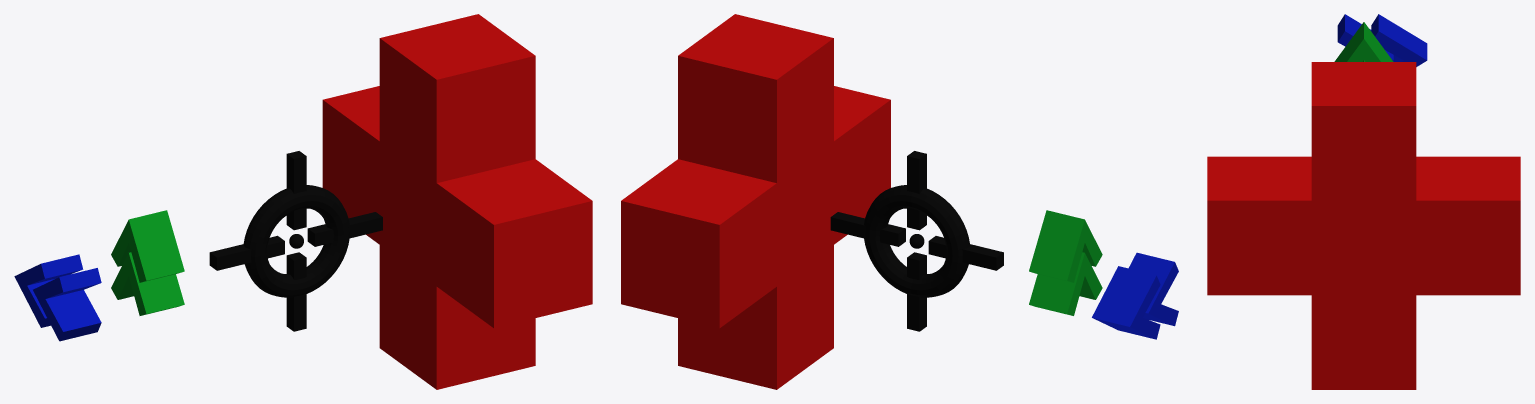
File: powerUps.fbx
3 views of the same model, side by side, from view 1: azimuth 30°, elevation 25°; view 2: azimuth 150°, elevation 25°; view 3: azimuth 270°, elevation 25° (orthographic). The views are drawn at different scales.
Parts seen in each view (by area): view 1: health, aim, jump, speed; view 2: health, aim, jump, speed; view 3: health, speed, jump.
Part boxes in pixels (box(x1,y1,x2,y2)): health: box(322, 14, 592, 389); aim: box(209, 151, 382, 331); jump: box(111, 210, 184, 315); speed: box(14, 254, 101, 341); health: box(621, 14, 890, 389); aim: box(830, 151, 1003, 331); jump: box(1029, 210, 1102, 315); speed: box(1092, 252, 1178, 339); health: box(1207, 62, 1520, 389); speed: box(1337, 14, 1427, 66); jump: box(1334, 22, 1393, 61).
Bounding box in the file's own units: 464 × 300 × 300.
